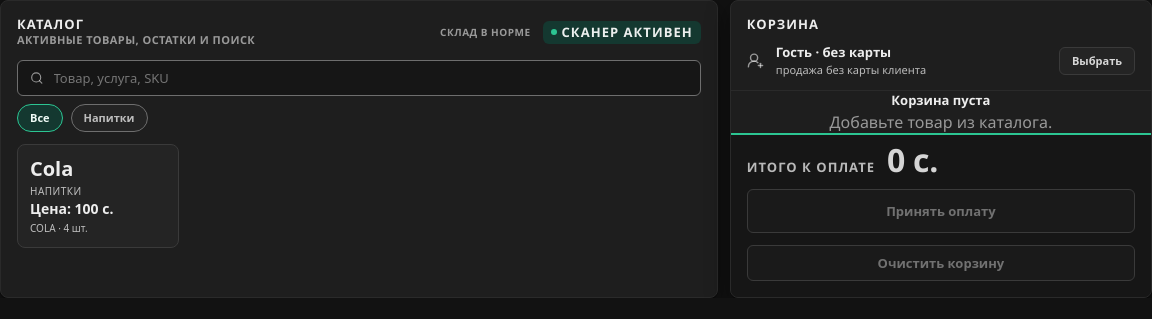
BackendPosWorkspace › позицию в чеке можно убавить и убрать по одной
The width and height of the screenshot is (1152, 319).
Click the button "Cola Напитки Цена: 100 с. COLA · 4 шт." at (98, 196), box left=17, top=144, right=179, bottom=248
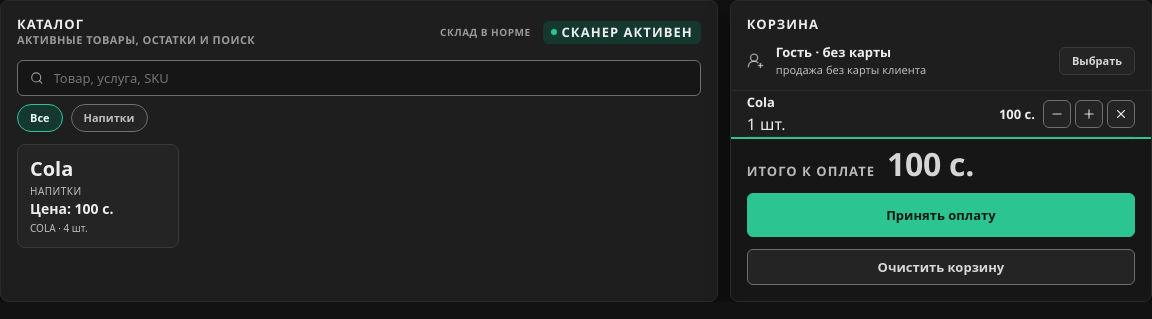
Click the button "Cola Напитки Цена: 100 с. COLA · 4 шт." at (98, 196), box left=17, top=144, right=179, bottom=248
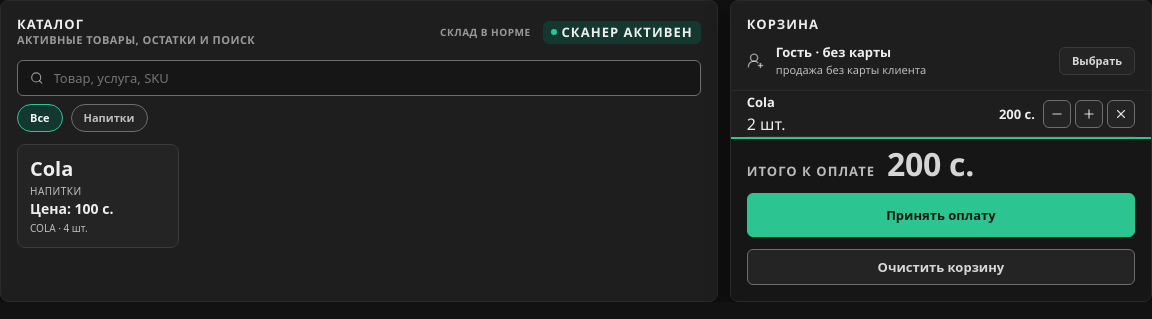
expect the text "2 шт." is shown: met, box left=747, top=113, right=786, bottom=135
Click the button named "Убрать одну штуку: Cola" at (1057, 114), box left=1043, top=100, right=1071, bottom=128
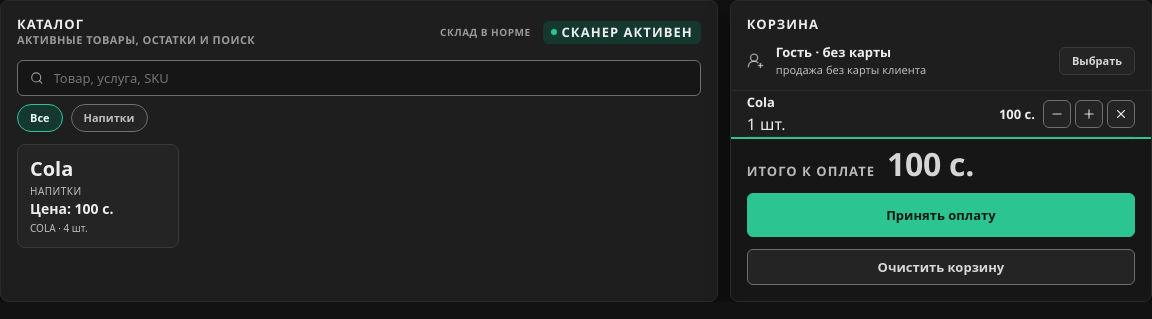
expect the text "1 шт." is shown: met, box left=747, top=113, right=786, bottom=135
Click the button named "Убрать из чека: Cola" at (1121, 114), box left=1107, top=100, right=1135, bottom=128
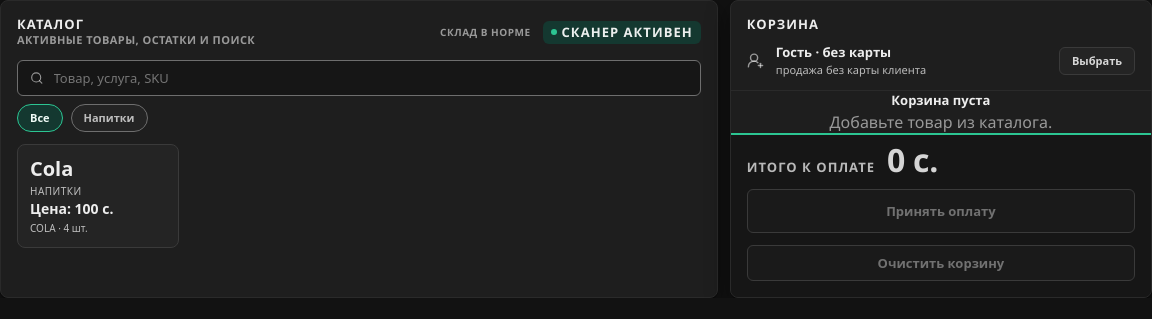
expect the text "Корзина пуста" is shown: met, box left=891, top=91, right=990, bottom=109
